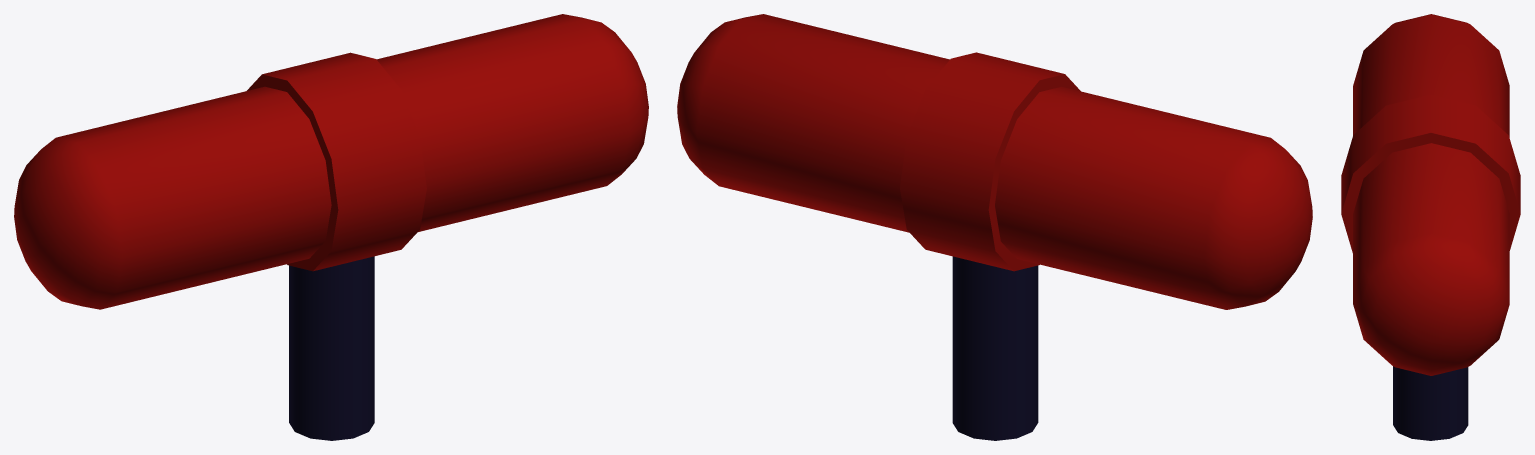
Rendered from barrier5.FBX.
The picture shows the model from 3 angles, left to right: view 1: azimuth 30°, elevation 25°; view 2: azimuth 150°, elevation 25°; view 3: azimuth 270°, elevation 25°; orthographic projection. The views are drawn at different scales.
Parts seen in each view (by area): view 1: Group038; view 2: Group038; view 3: Group038.
Part boxes in pixels (<box>): Group038: <box>14,14,648,440</box>; Group038: <box>677,14,1312,440</box>; Group038: <box>1341,14,1520,440</box>.
Size of the model in its own units: 36.25 by 20.25 by 10.58.
